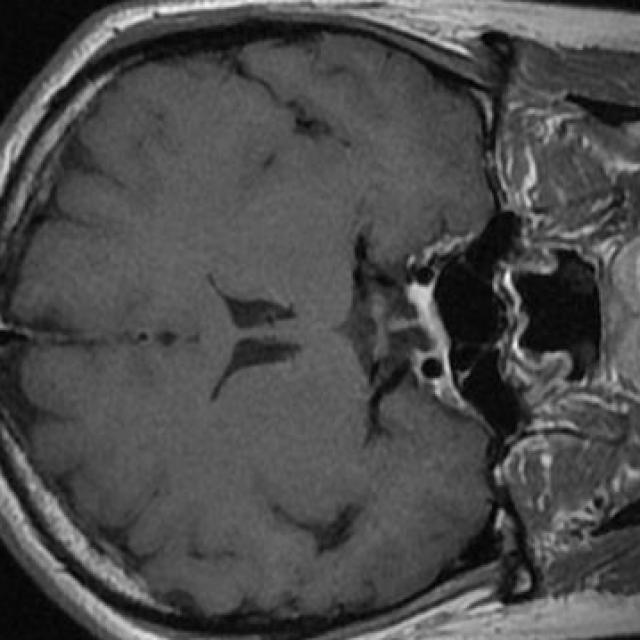pituitary: (405, 282, 453, 362)
